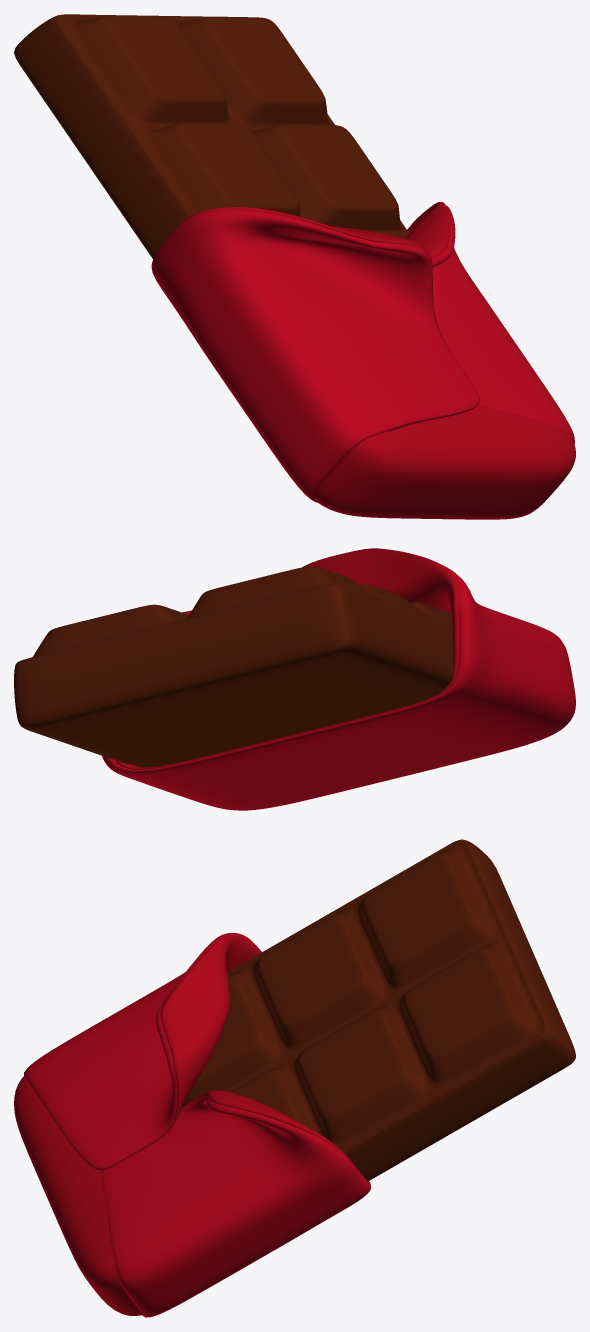
The model's file is 3D chocolate.glb.
3 views of the same model, one above another, from view 1: azimuth 30°, elevation 25°; view 2: azimuth 150°, elevation 25°; view 3: azimuth 270°, elevation 25° (orthographic). The views are drawn at different scales.
Visible parts, largest first — view 1: Cube.001_Cube.002, Cube.014_Cube.027, Cube.002_Cube.003, Cube.003_Cube.004; view 2: Cube.014_Cube.027, Cube.001_Cube.002, Cube.003_Cube.004; view 3: Cube.014_Cube.027, Cube.001_Cube.002, Cube.002_Cube.003, Cube.003_Cube.004.
Part boxes in pixels (x1=…): Cube.001_Cube.002: x1=151, y1=205, x2=574, y2=502; Cube.014_Cube.027: x1=14, y1=14, x2=410, y2=259; Cube.002_Cube.003: x1=313, y1=405, x2=575, y2=519; Cube.003_Cube.004: x1=189, y1=202, x2=470, y2=431; Cube.014_Cube.027: x1=14, y1=566, x2=453, y2=767; Cube.001_Cube.002: x1=102, y1=554, x2=575, y2=810; Cube.003_Cube.004: x1=115, y1=548, x2=458, y2=769; Cube.014_Cube.027: x1=182, y1=839, x2=575, y2=1181; Cube.001_Cube.002: x1=24, y1=933, x2=370, y2=1317; Cube.002_Cube.003: x1=14, y1=1076, x2=142, y2=1315; Cube.003_Cube.004: x1=92, y1=933, x2=369, y2=1183.
Bounding box in the file's own units: 2.41 × 2.73 × 3.87.
